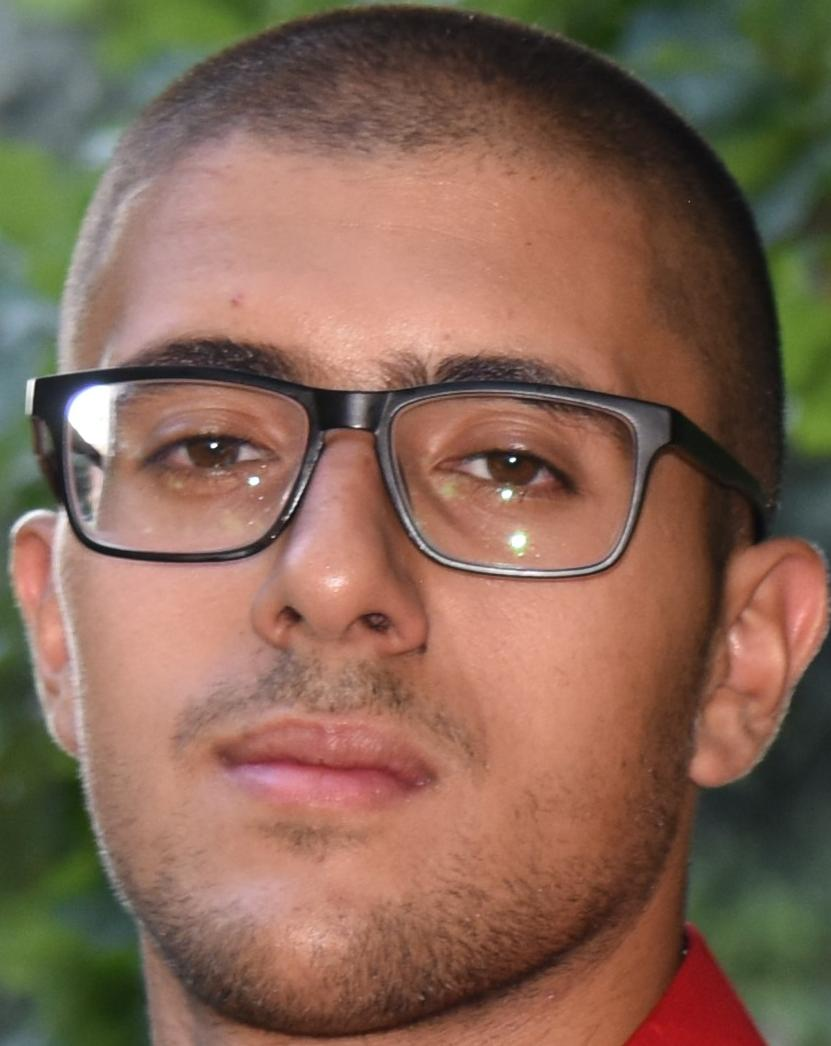face: (11, 5, 826, 1037)
